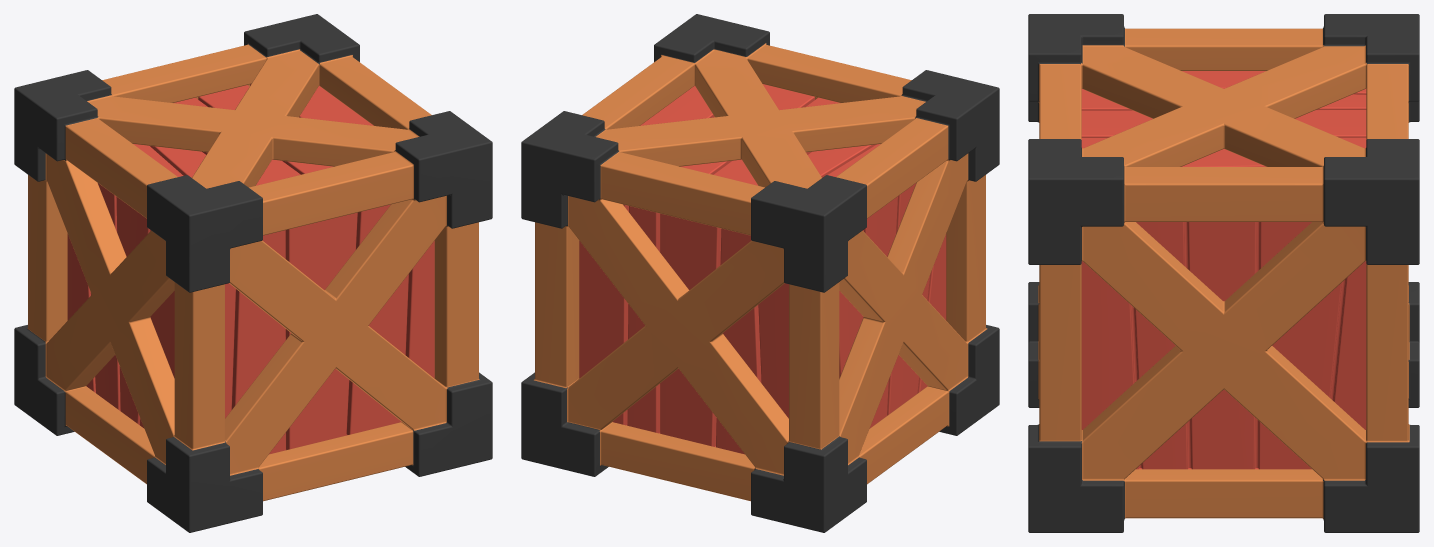
Rendered from box updated.fbx.
3 renders of one model, left to right at view 1: azimuth 30°, elevation 25°; view 2: azimuth 150°, elevation 25°; view 3: azimuth 270°, elevation 25°, orthographic. The views are drawn at different scales.
Visible parts, largest first — view 1: Cube.003, Cube.005; view 2: Cube.003, Cube.005; view 3: Cube.003, Cube.005.
Part boxes in pixels (x1,y1,x2,y2): Cube.003: (14, 14, 492, 532); Cube.005: (67, 84, 434, 454); Cube.003: (521, 14, 999, 532); Cube.005: (579, 84, 946, 454); Cube.003: (1028, 14, 1419, 532); Cube.005: (1081, 71, 1366, 469).
Size of the model in its own units: 212 by 212 by 212.
